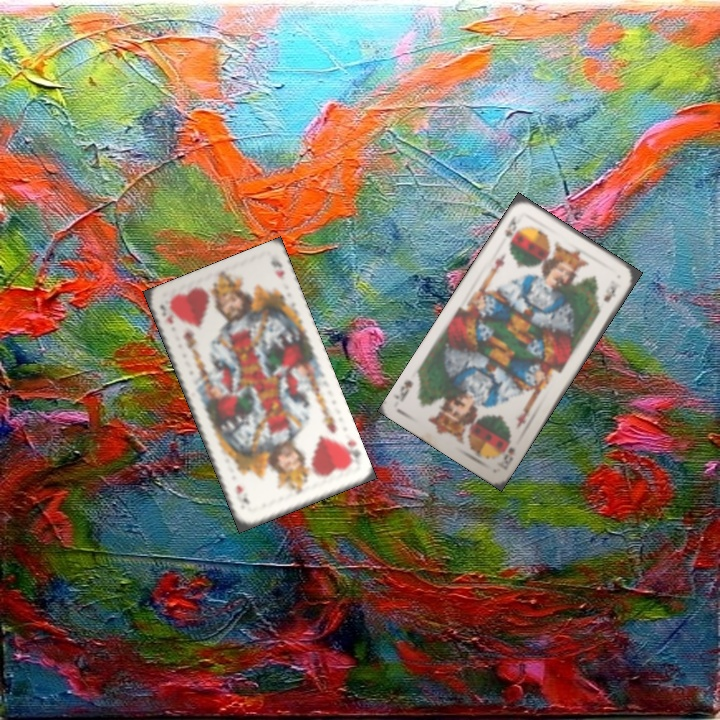HK: (336, 435, 362, 468), (155, 301, 176, 326)
SK: (501, 213, 522, 249), (493, 443, 518, 471)
